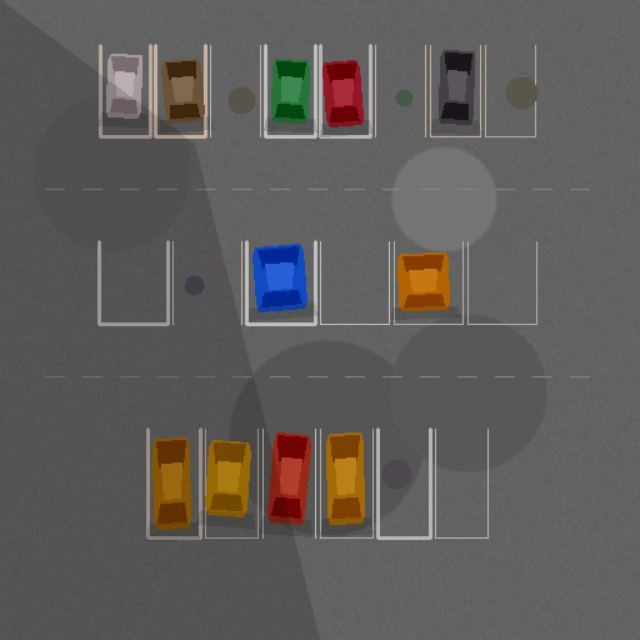space-empty: (377, 429, 430, 538), (99, 241, 168, 324), (172, 241, 241, 324), (320, 241, 389, 324), (435, 429, 487, 538), (468, 241, 536, 324), (210, 45, 260, 136), (375, 45, 425, 136), (485, 45, 535, 136)
space-occupied: (147, 429, 200, 538), (320, 429, 373, 538), (246, 241, 315, 324), (205, 429, 257, 538), (263, 429, 315, 538), (394, 241, 462, 324), (100, 45, 150, 136), (155, 45, 205, 136), (265, 45, 315, 136), (320, 45, 370, 136), (430, 45, 480, 136)
